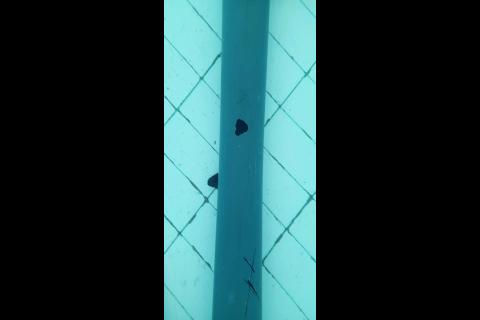kebocoran: (233, 118, 249, 136)
keretakan: (243, 247, 260, 317)
